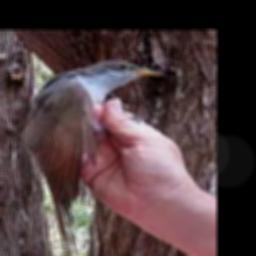Cuckoo: (23, 60, 165, 256)
